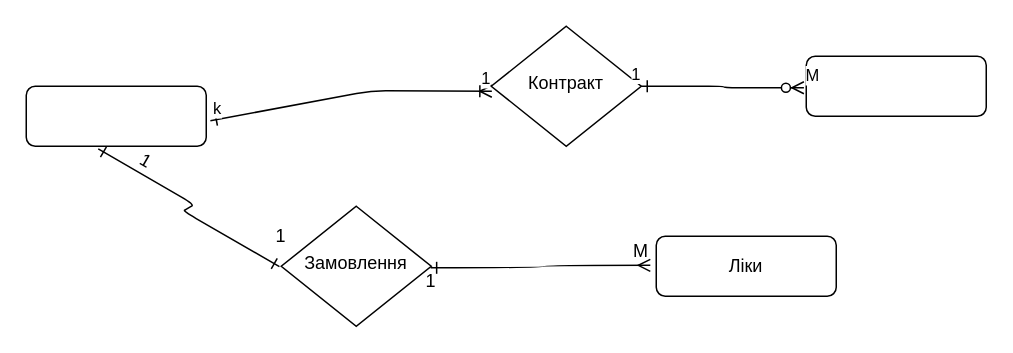
This 1013x353 diagram has some shape labels left out. The shapes that lost their labels are listed below. From the top down, each one's box as (x1, y1, x2, y2) in pixels, then its label:
(805, 55, 986, 116): Фармацевт
(25, 85, 206, 146): Аптека
